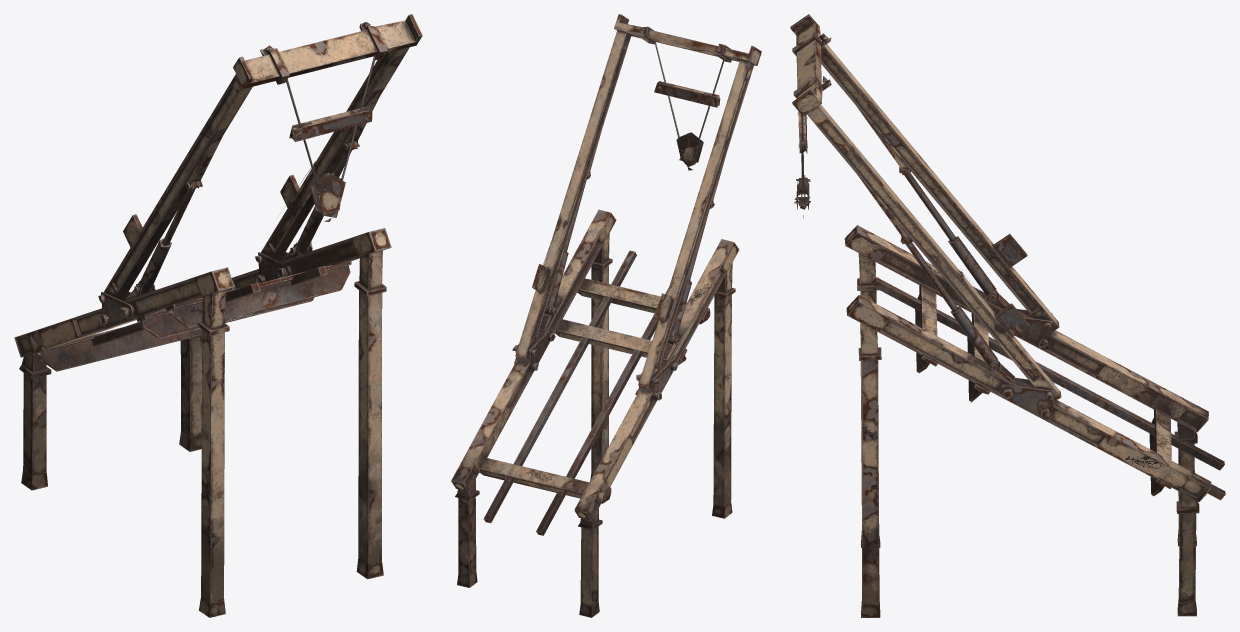
File: SM_Crane_01.fbx
The picture shows the model from 3 angles, left to right: view 1: azimuth 30°, elevation 25°; view 2: azimuth 150°, elevation 25°; view 3: azimuth 270°, elevation 25°; orthographic projection. The views are drawn at different scales.
Parts seen in each view (by area): view 1: SM_Crane_01_LOD0; view 2: SM_Crane_01_LOD0; view 3: SM_Crane_01_LOD0.
Part boxes in pixels (x1,y1,x2,y2): SM_Crane_01_LOD0: [14, 14, 422, 617]; SM_Crane_01_LOD0: [451, 14, 761, 617]; SM_Crane_01_LOD0: [790, 14, 1225, 617].
Size of the model in its own units: 222 by 490 by 655.
1 material, 1 textured.
